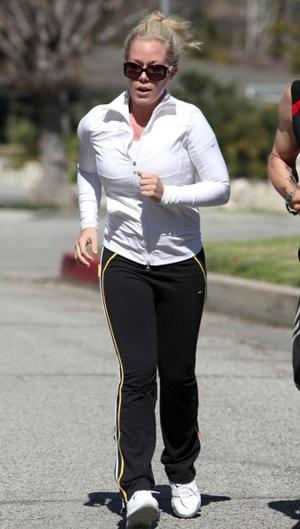person: (77, 9, 231, 527)
